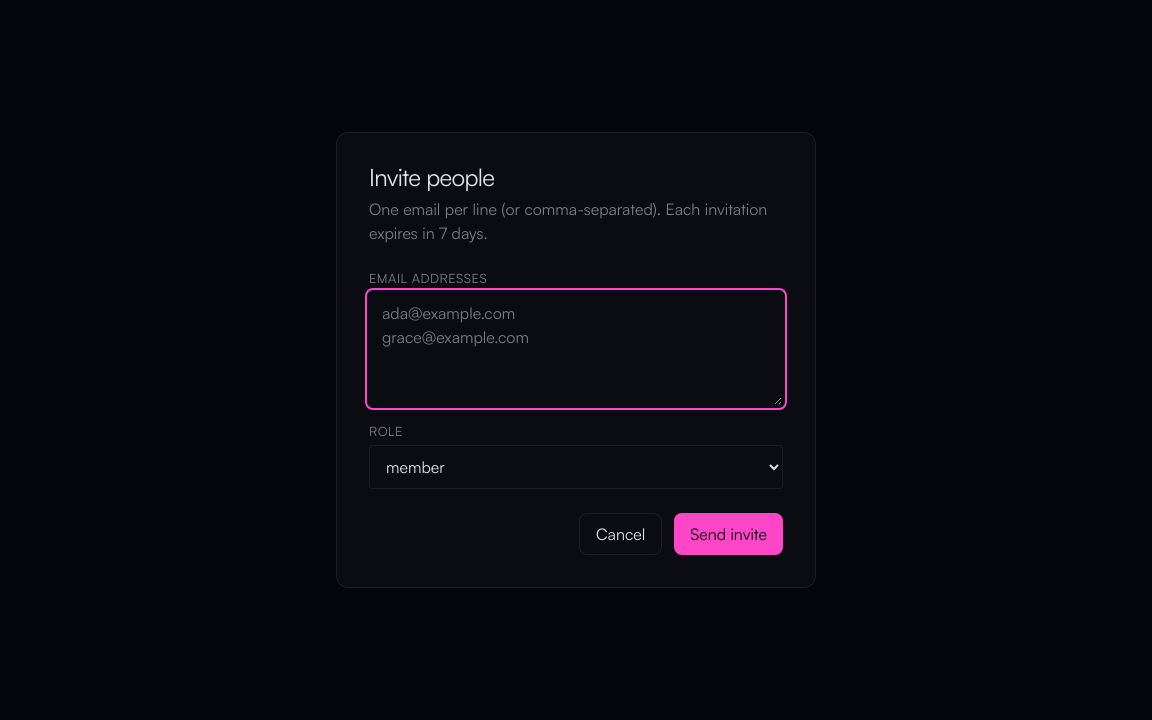
Test case: InviteModal › sends one invite per newline/comma-separated address and reports success per row
This screenshot has width=1152, height=720.
Type "ada@example.com, grace@example.com" into the text box labelled "Email addresses" at (576, 349), box [369, 292, 783, 406]
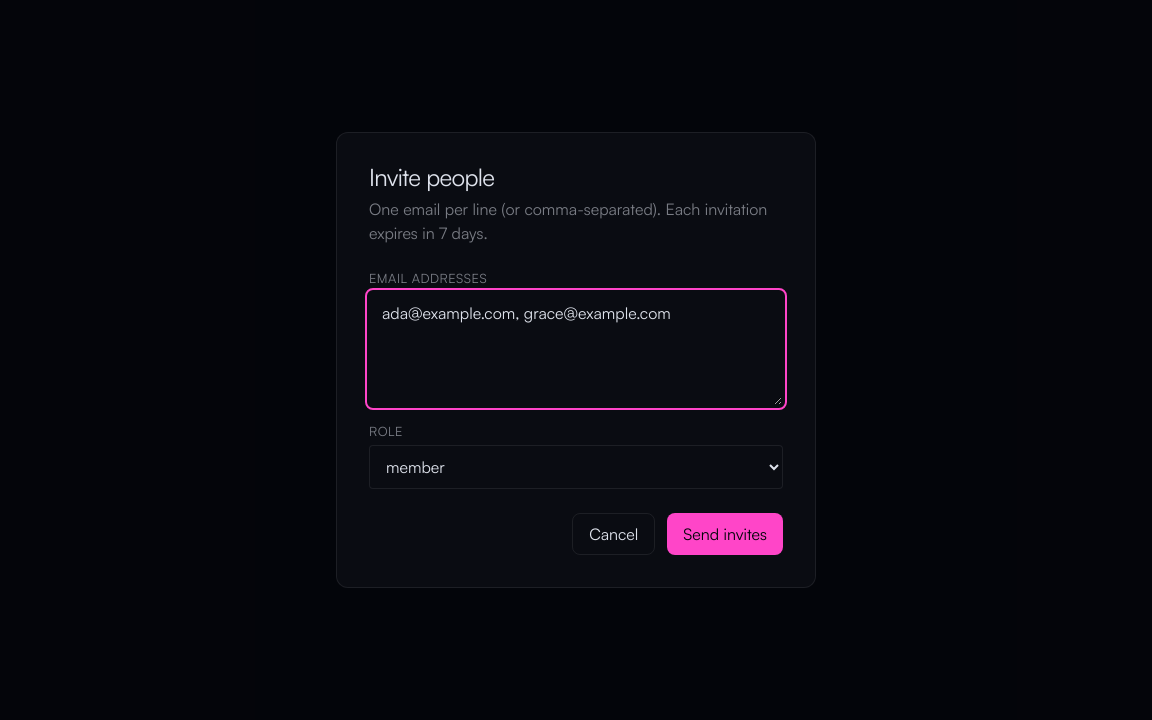
Click the button "Send invites" at (725, 534), box [667, 513, 783, 555]
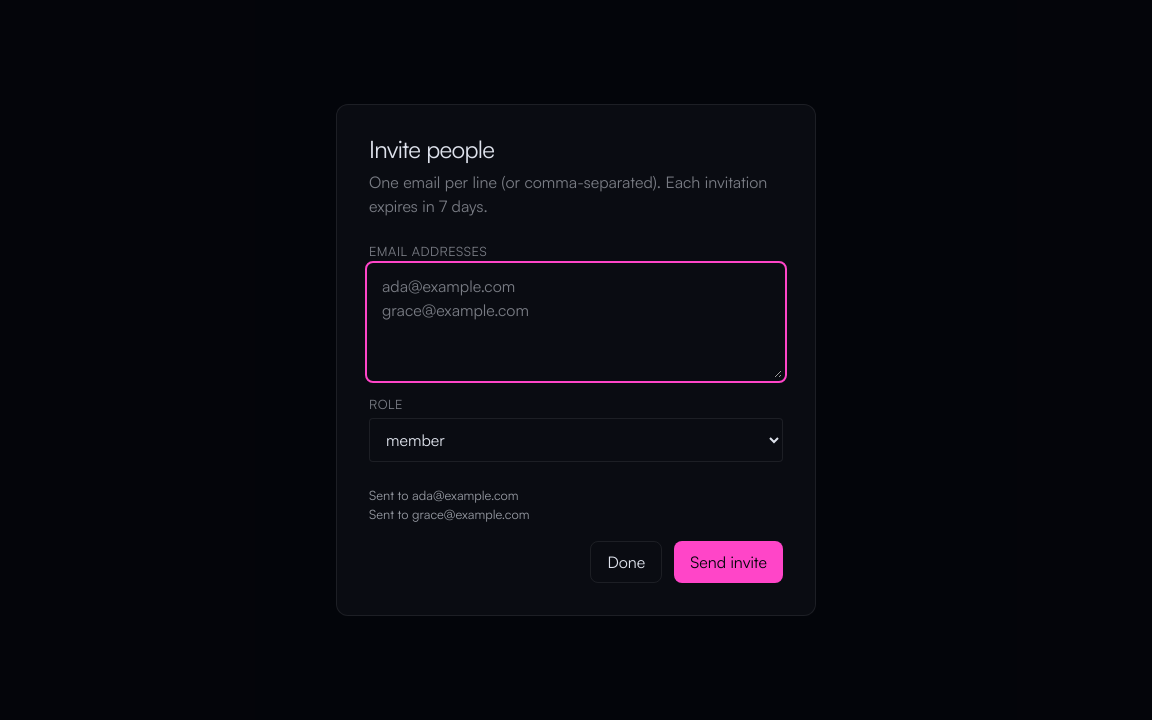
Check: the list item "Sent to ada@example.com" is shown, box [369, 487, 519, 503]
Check: the list item "Sent to grace@example.com" is shown, box [369, 506, 530, 522]
